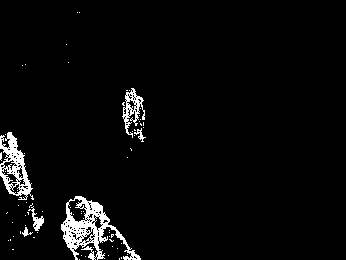person: (1, 130, 45, 236), (84, 198, 137, 260), (61, 196, 98, 260), (121, 86, 148, 142)
